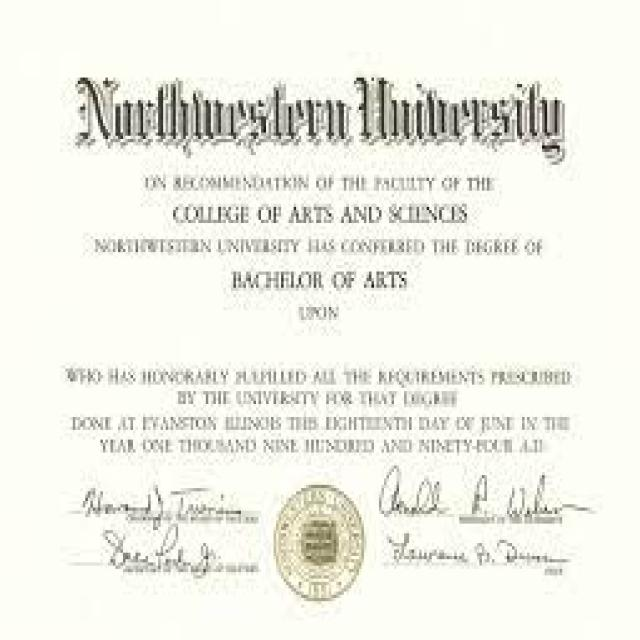signature: (381, 465, 594, 533), (82, 474, 262, 533), (386, 530, 580, 584), (102, 529, 266, 582), (230, 264, 411, 295)
stamp: (275, 480, 370, 608)
